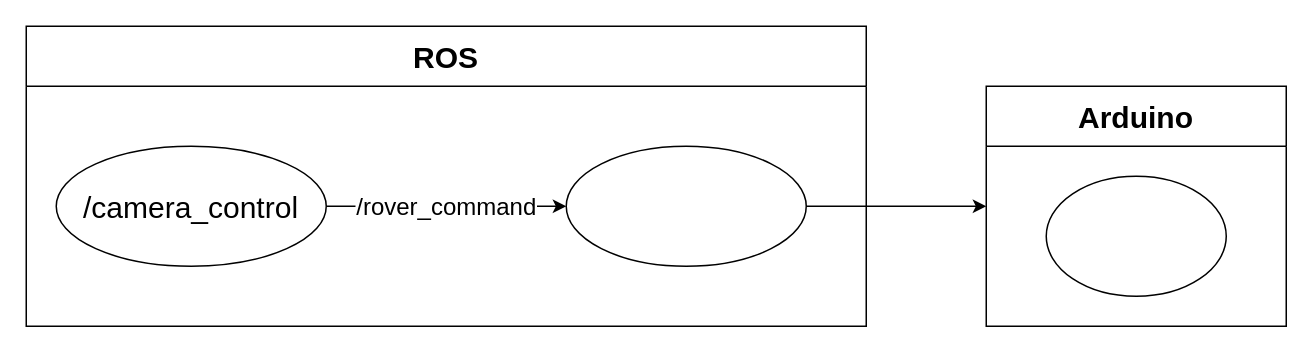
Some shapes in this 1313 by 353 pixel diagram are drawn without their labels. Here are the shapes that lost their labels. From the top down, the centre of each, then its label:
(x=685, y=205): /serial_node
(x=1135, y=235): Servo
